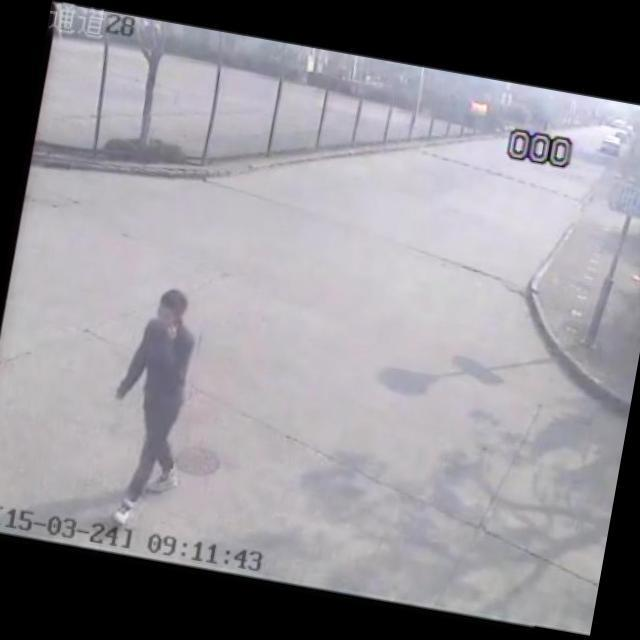person: (79, 254, 240, 549)
